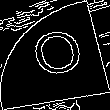O_S: (24, 26, 86, 84)
